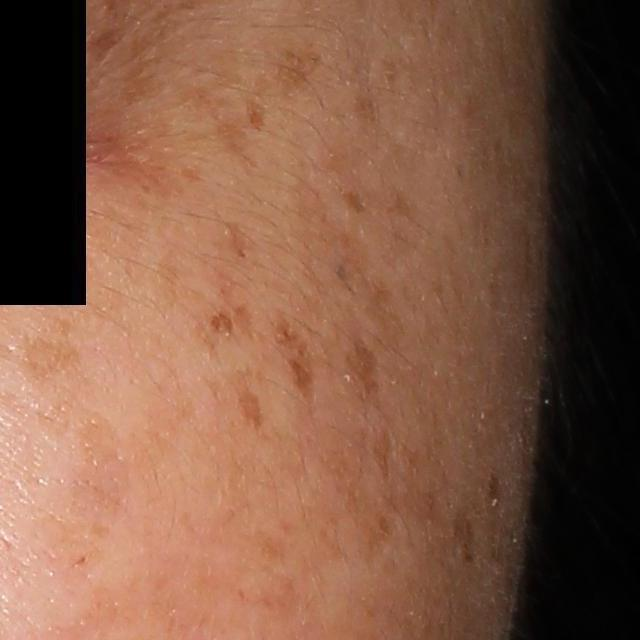melasma: (317, 449, 482, 565), (339, 331, 389, 411), (361, 272, 408, 353), (13, 340, 87, 376), (279, 46, 323, 96), (87, 17, 132, 65), (214, 119, 254, 173), (217, 219, 261, 261), (381, 186, 422, 230), (237, 93, 273, 136), (233, 385, 264, 428), (341, 188, 370, 221), (180, 162, 202, 181)
